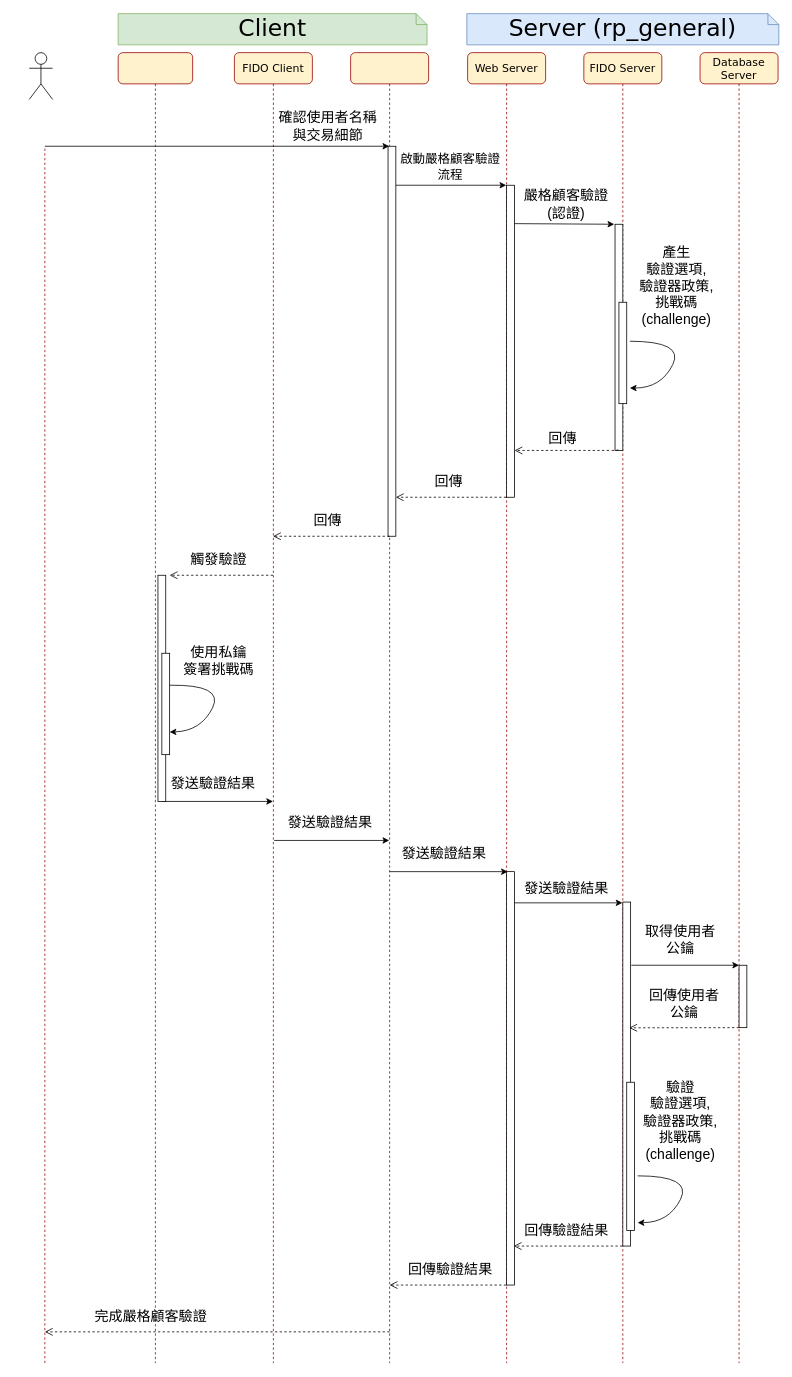
Image size: 792x1377. Some labels were removed from this diagram. Each missing label, with the box of its shape:
Actor: (28, 52, 53, 99)
Authenticator: (117, 52, 193, 1363)
Browser: (350, 52, 429, 1363)
